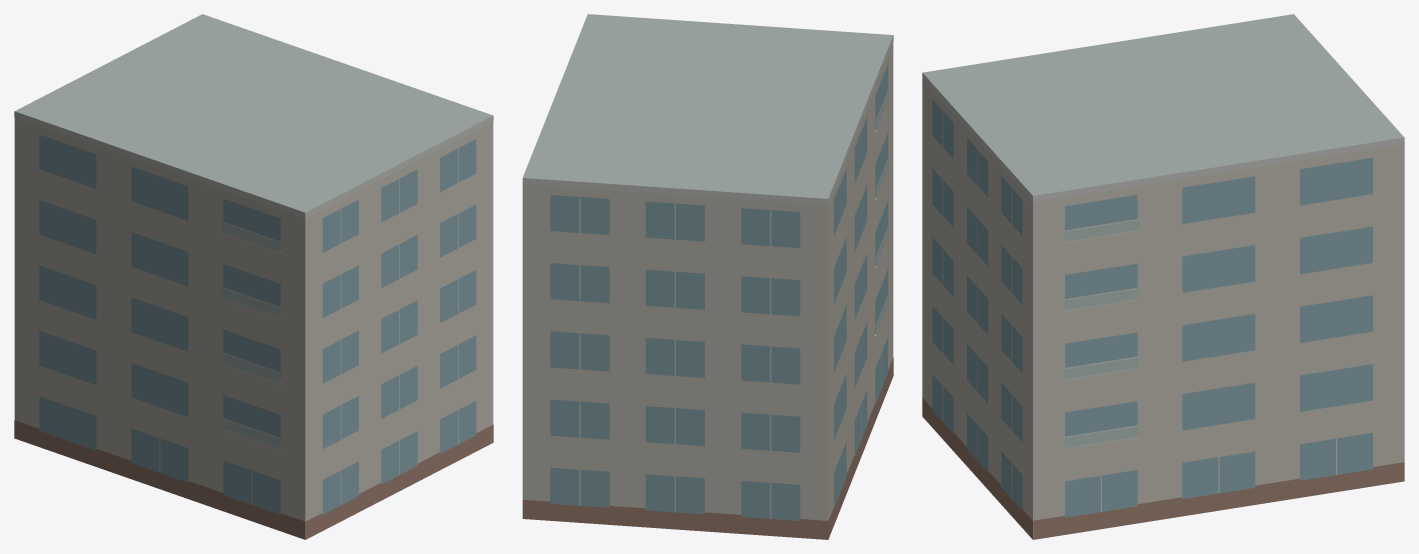
Rendered from survey-upis-32943880.glb.
3 views of the same model, side by side, from view 1: azimuth 30°, elevation 25°; view 2: azimuth 150°, elevation 25°; view 3: azimuth 270°, elevation 25° (orthographic). The views are drawn at different scales.
Visible parts, largest first — view 1: survey-upis-32943880.tmp; view 2: survey-upis-32943880.tmp; view 3: survey-upis-32943880.tmp.
Part boxes in pixels (x1=…): survey-upis-32943880.tmp: x1=14, y1=14, x2=493, y2=539; survey-upis-32943880.tmp: x1=522, y1=14, x2=893, y2=539; survey-upis-32943880.tmp: x1=922, y1=14, x2=1404, y2=539.
Bounding box in the file's own units: 15.16 × 13.35 × 16.97.
